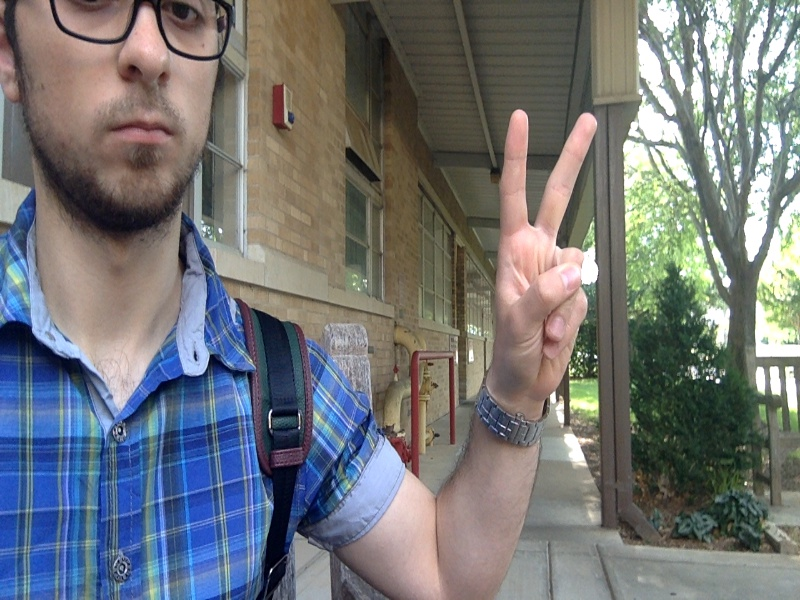2-hand: (494, 108, 597, 404)
